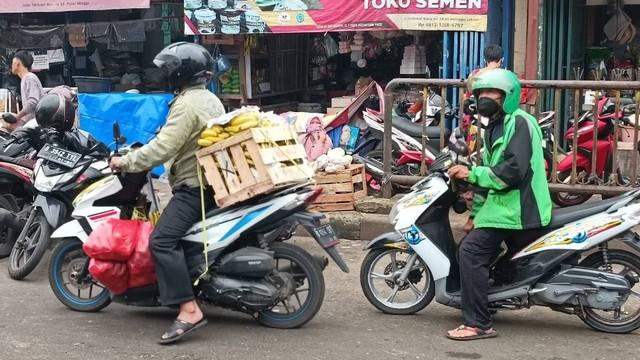helm: (152, 43, 218, 94), (470, 67, 522, 118)
motor: (49, 146, 351, 332), (361, 146, 640, 337), (9, 127, 116, 280), (2, 114, 49, 274)
